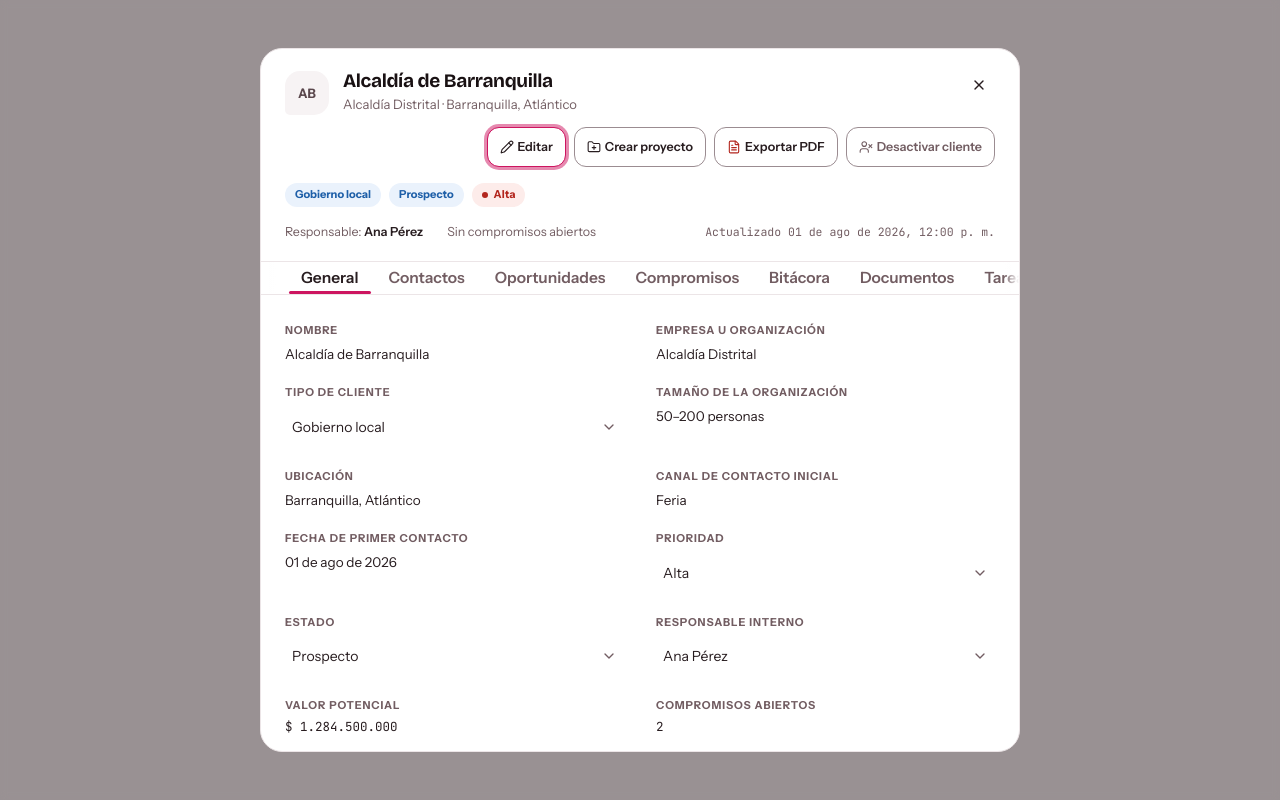
ClientSheet — General tab inline editing (QA audit finding #3) › names the inline edit input after the field and describes the entry button with it
The width and height of the screenshot is (1280, 800).
Click the button "Alcaldía Distrital" at (706, 354), box [650, 342, 989, 365]
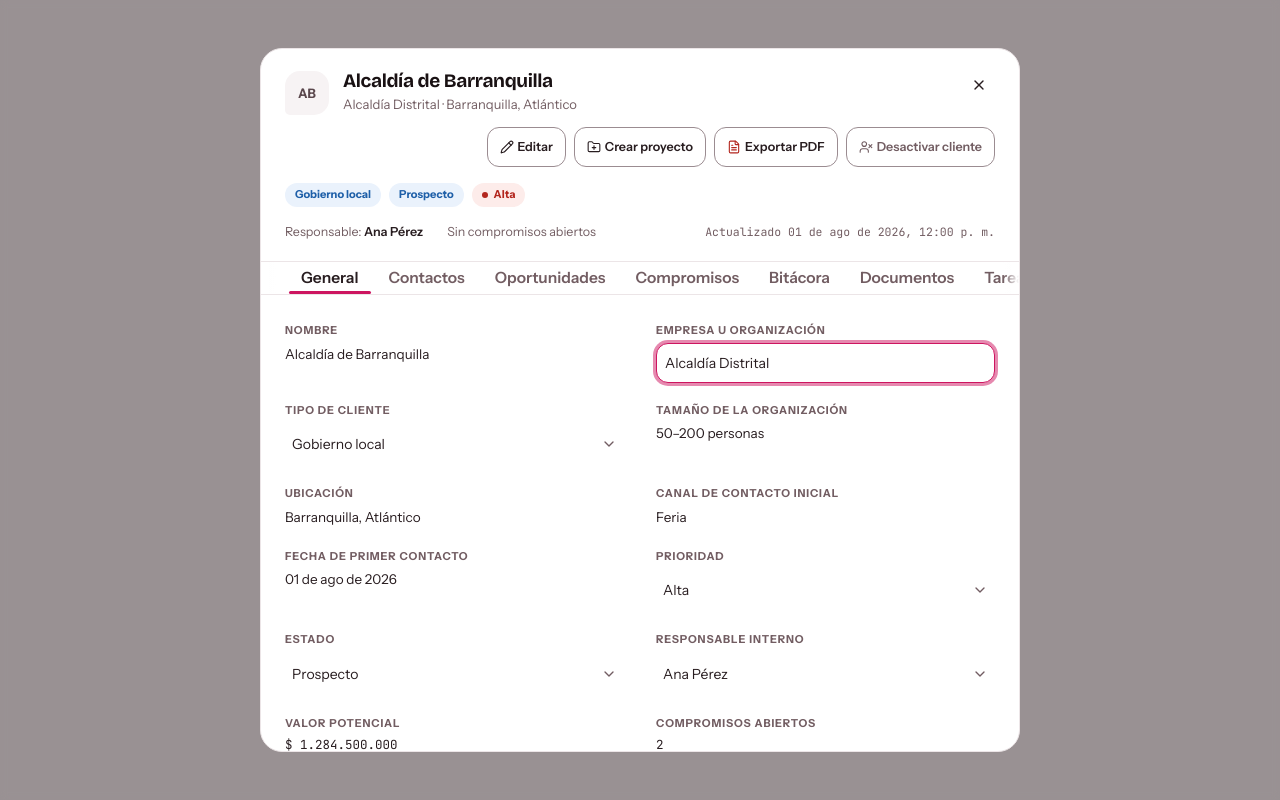
Now the field named "Empresa u organización" holds "Alcaldía Distrital", box [656, 342, 995, 382]
